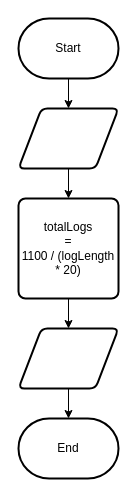
This 136x496 diagram has some shape labels left out. Each missing label, with the box of its shape:
Get logLength: (17, 107, 119, 169)
Show totalLogs: (17, 327, 119, 389)
